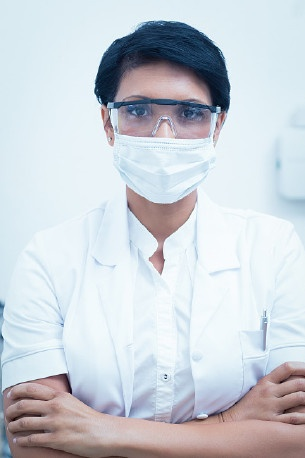Mask: (113, 93, 217, 197)
